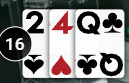2: (23, 10, 47, 35)
4: (50, 10, 76, 36)
q: (75, 8, 101, 36)
